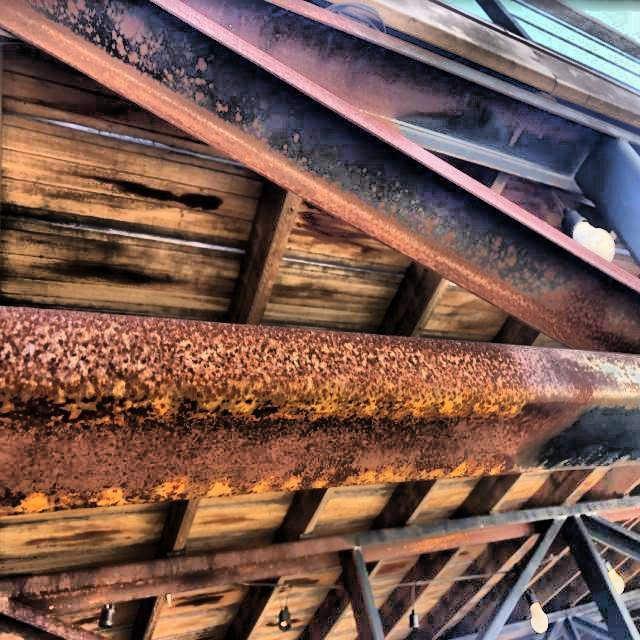Uniform Corrosion: (0, 0, 639, 509)
